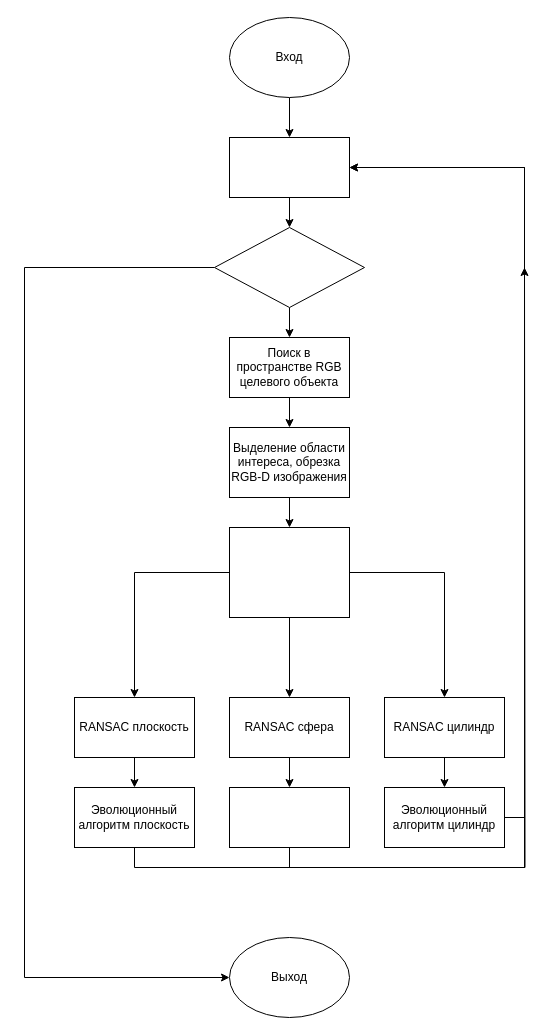
This 551x1035 diagram has some shape labels left out. The centre of each missing label's shape, as x and y in pixels:
i == n?: pixel 289 267
i+=1: pixel 289 167
Создание облака точек из полученного сегментаRGB-D изображения: pixel 289 572
Эволюционный алгоритм сфера: pixel 289 817
